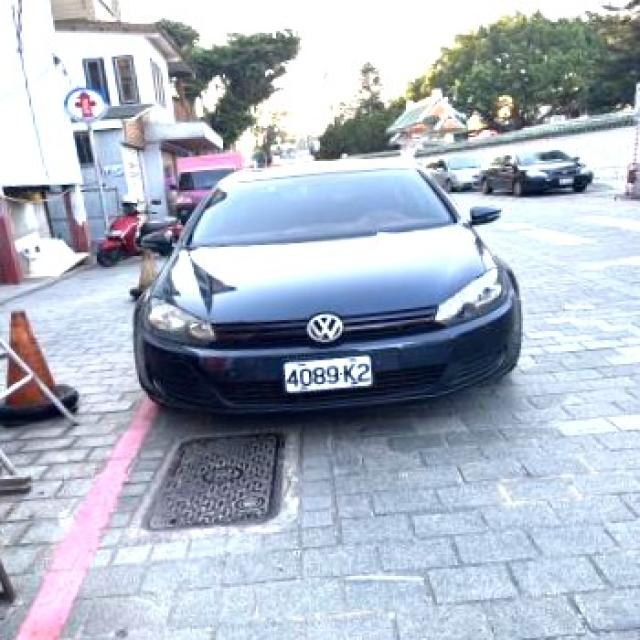illegalparking: (132, 157, 519, 413)
